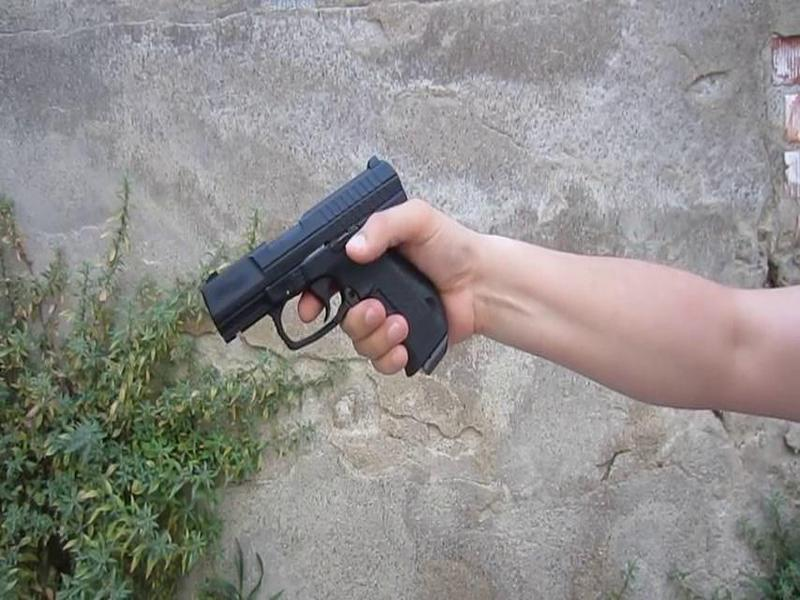Pistola: (167, 143, 502, 402)
